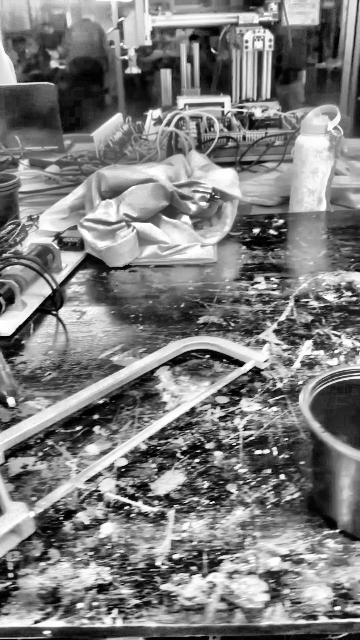pot: (299, 366, 359, 539)
